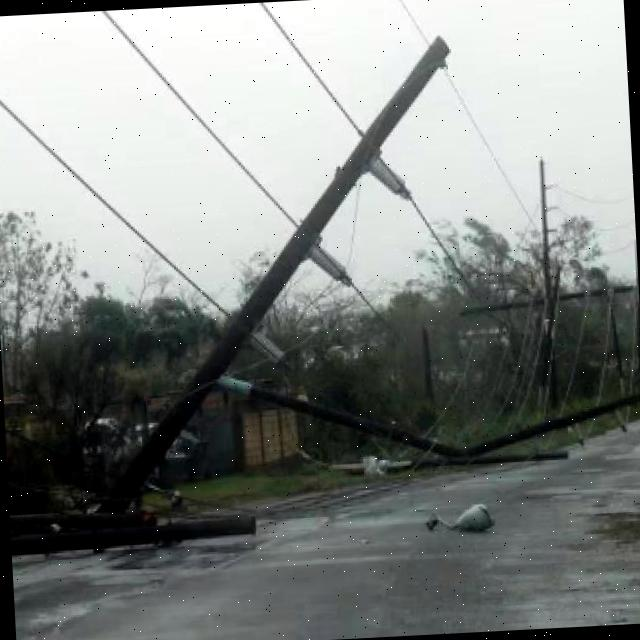Broken Pole: (95, 32, 451, 509), (222, 374, 640, 457), (12, 513, 257, 556), (10, 510, 183, 531)
